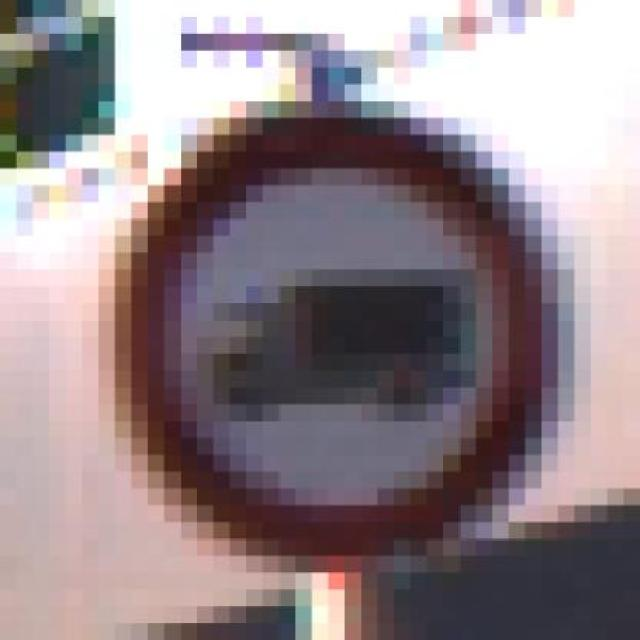Truck traffic is prohibited: (65, 101, 558, 556)
